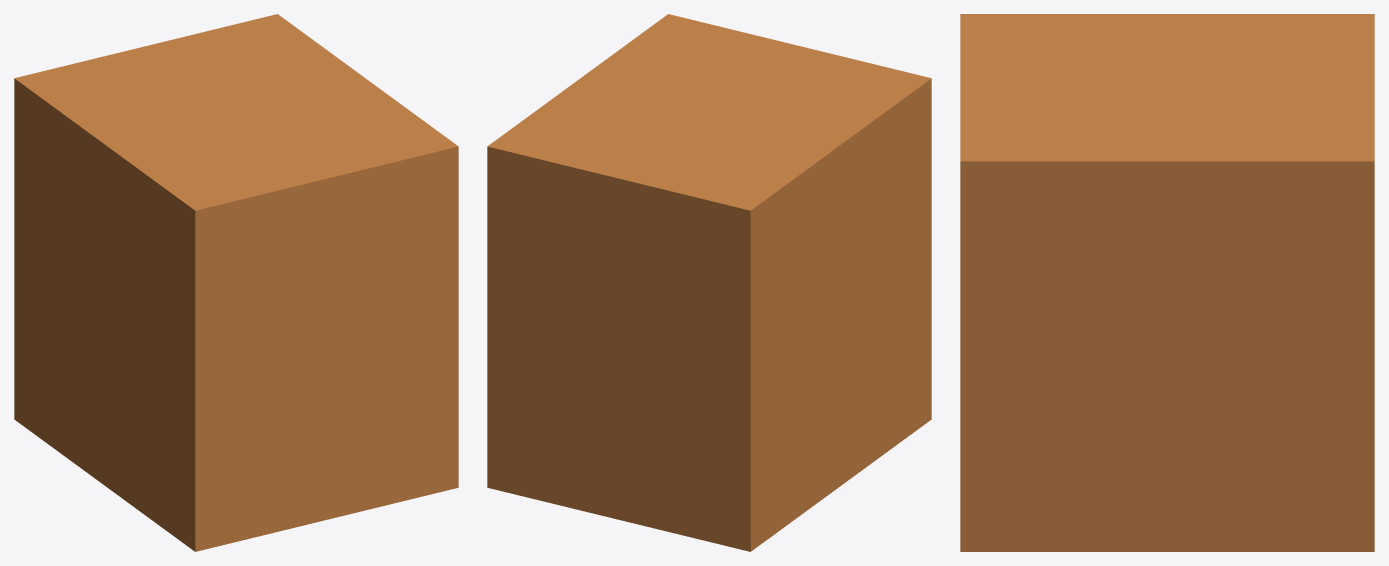
File: thinkpadBox_stacked.dae
The picture shows the model from 3 angles, left to right: view 1: azimuth 30°, elevation 25°; view 2: azimuth 150°, elevation 25°; view 3: azimuth 270°, elevation 25°; orthographic projection. The views are drawn at different scales.
Visible parts, largest first — view 1: Cube; view 2: Cube; view 3: Cube.
Boxes of the visible parts, box(x1,y1,x2,y2) form: Cube: box(14, 14, 458, 551); Cube: box(487, 14, 931, 551); Cube: box(960, 14, 1374, 551).
Bounding box in the file's own units: 0.21 × 0.25 × 0.26.
